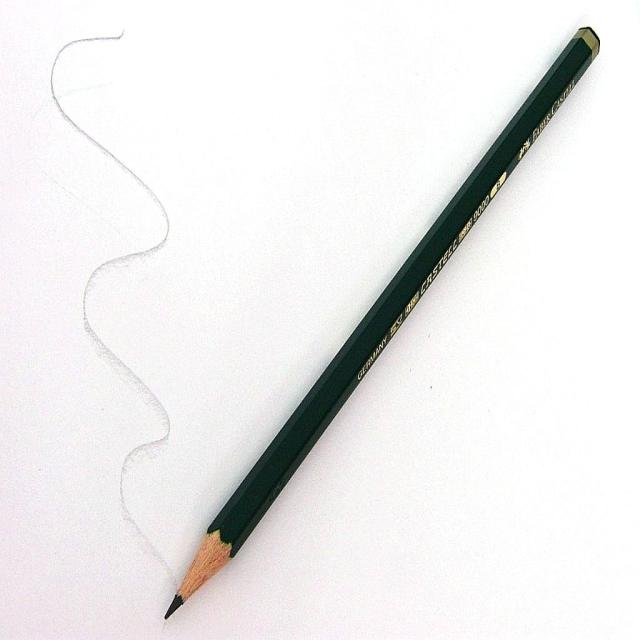pencil: (154, 12, 610, 633)
